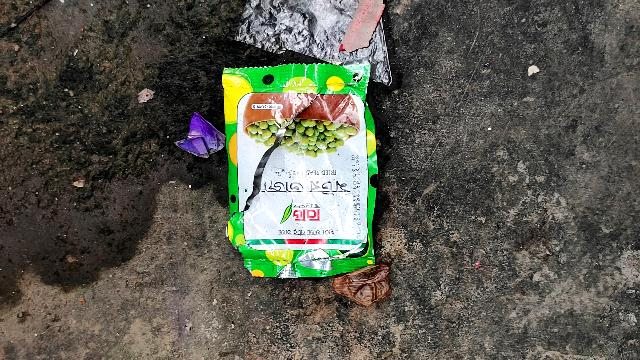packet: (225, 62, 372, 279)
